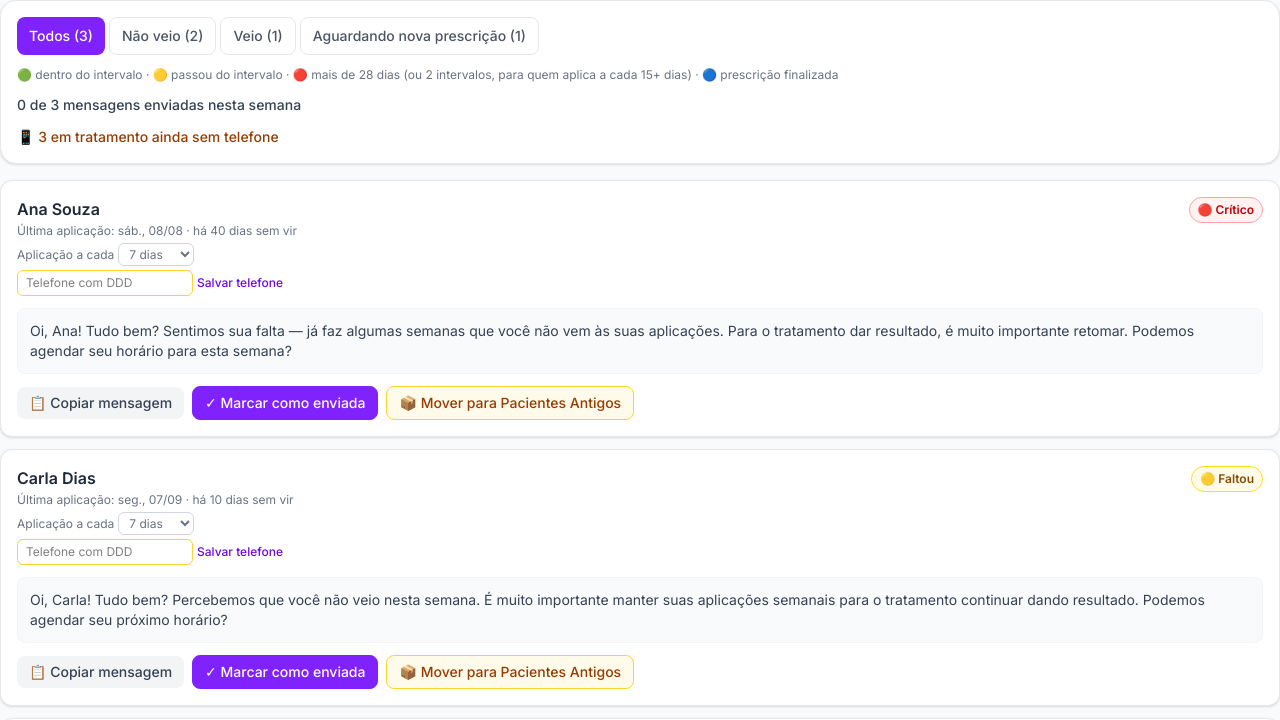
EmTratamento › Confirmar só libera com um motivo de pelo menos 3 caracteres
Click the 1st button "📦 Mover para Pacientes Antigos" at (510,403), box [386,386,634,420]
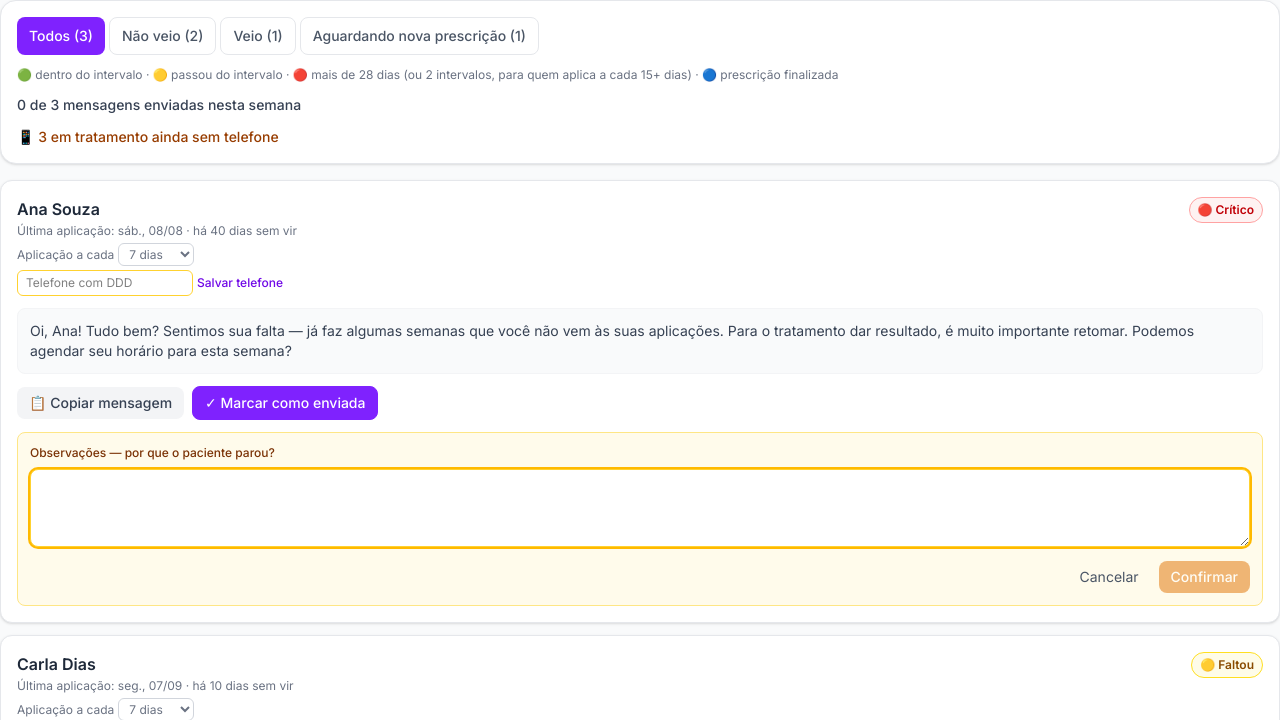
Expected: the button "Confirmar" is disabled, [1159,561,1250,593]
Type "  a " into the text box labelled "Observações — por que o paciente parou?" at (640,508), box [30,469,1250,547]
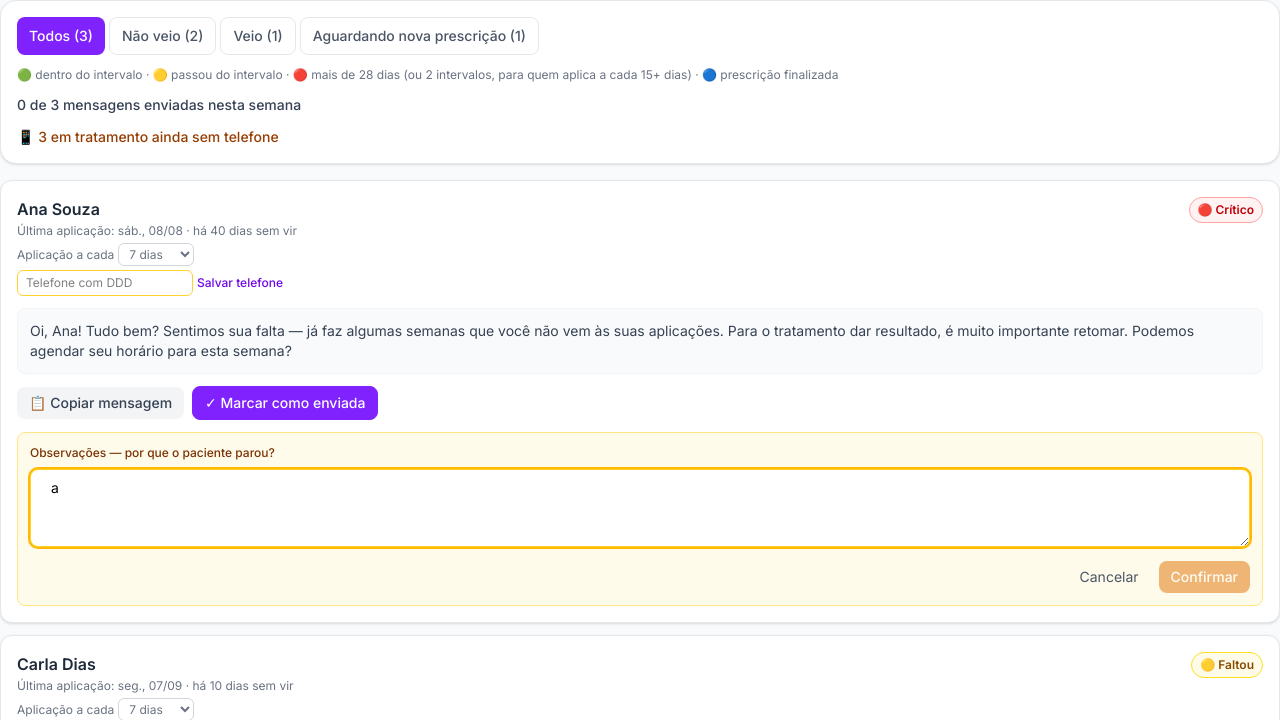
Expected: the button "Confirmar" is disabled, [1159,561,1250,593]
Type "bc" into the text box labelled "Observações — por que o paciente parou?" at (640,508), box [30,469,1250,547]
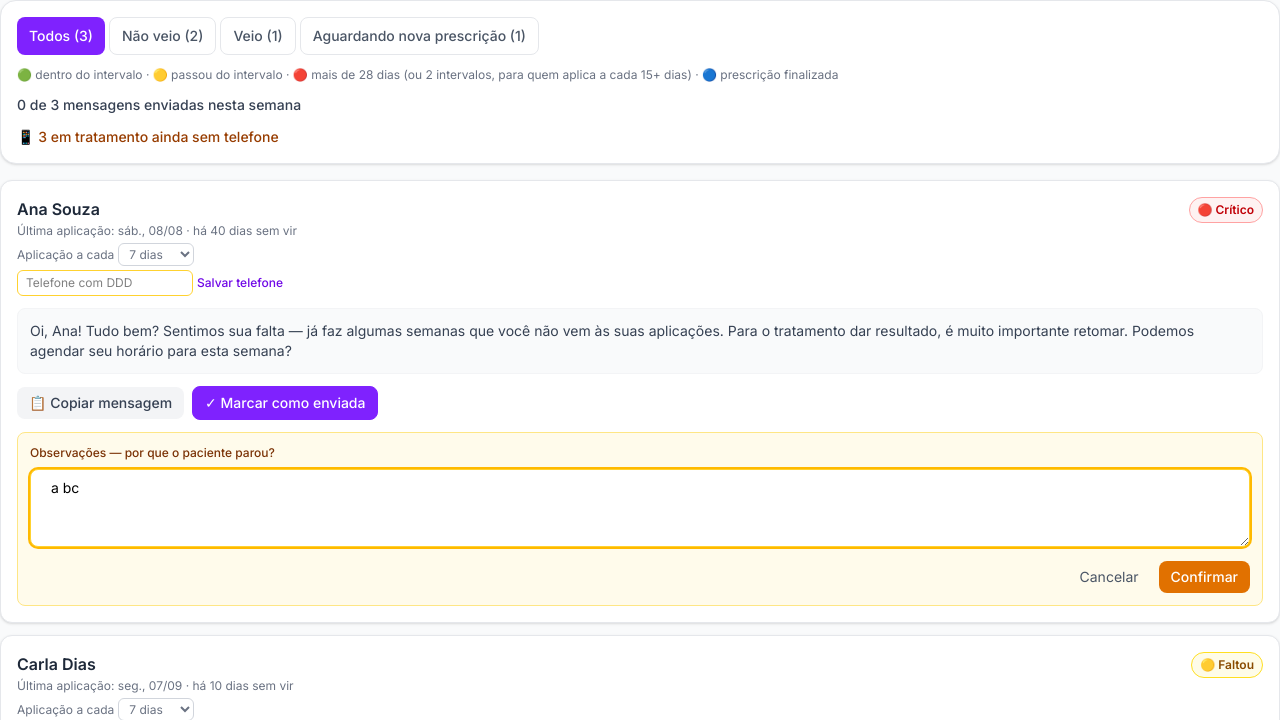
Expected: the button "Confirmar" is enabled, [1159,561,1250,593]
